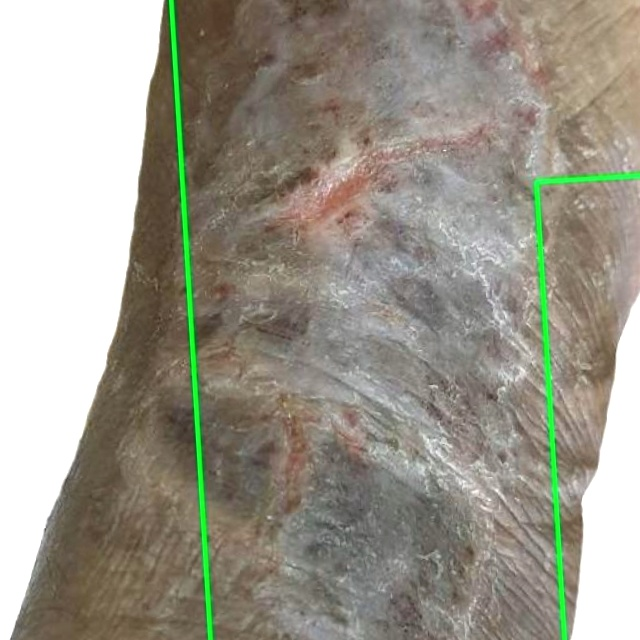Eczema: (0, 0, 210, 639)
